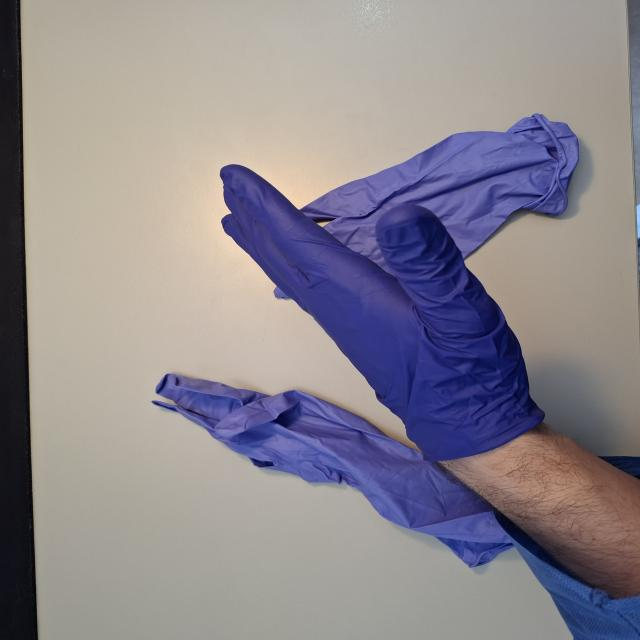glove_on: (218, 162, 546, 469)
